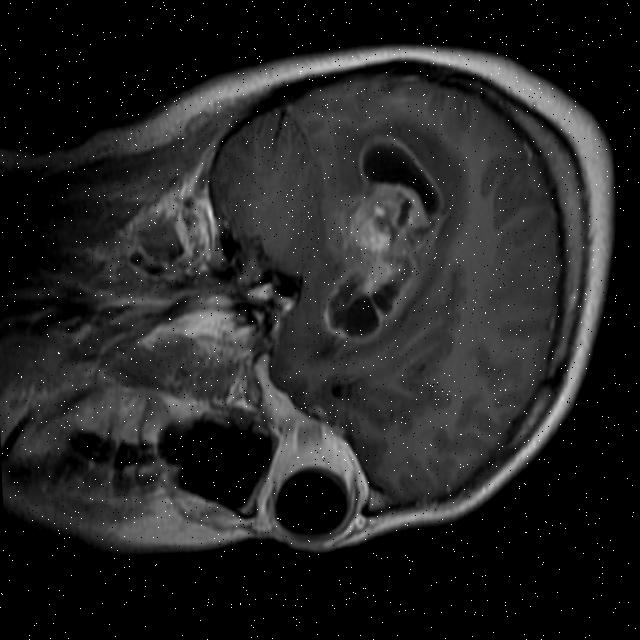Glioma: (314, 128, 457, 345)
